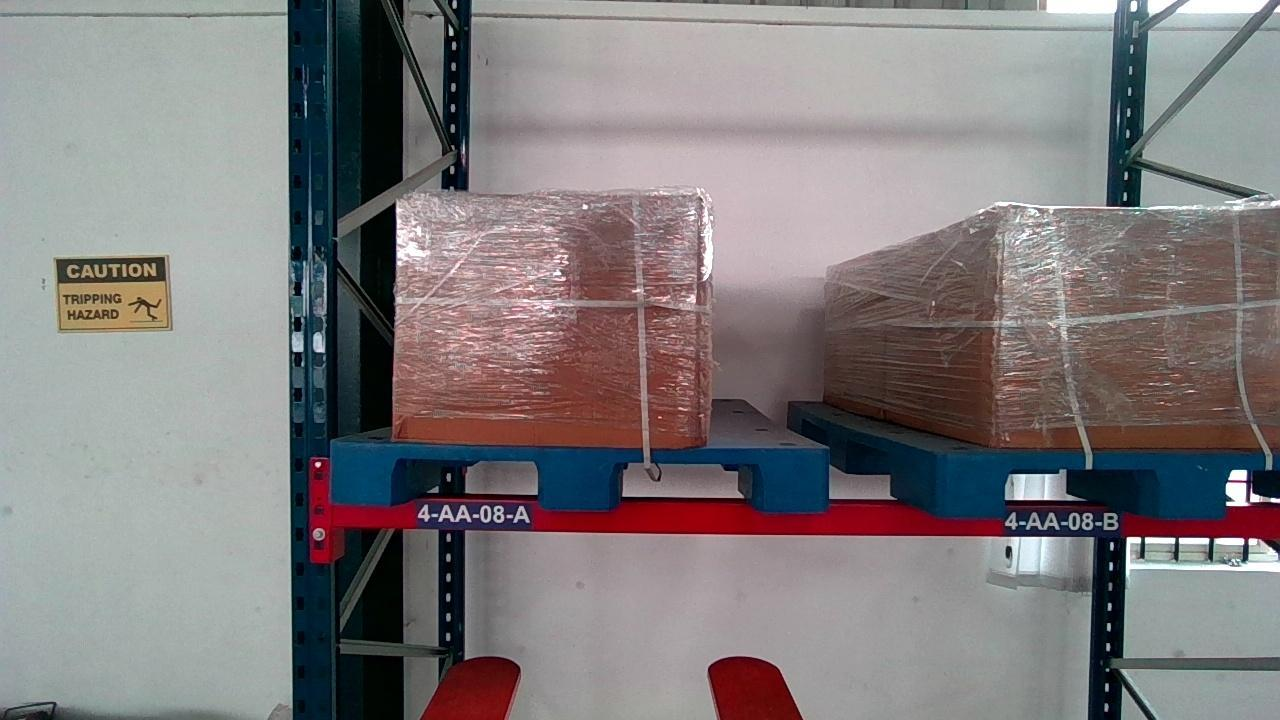h_rack: (325, 500, 1278, 537)
small_pallet: (330, 438, 832, 510), (952, 450, 1280, 513)
